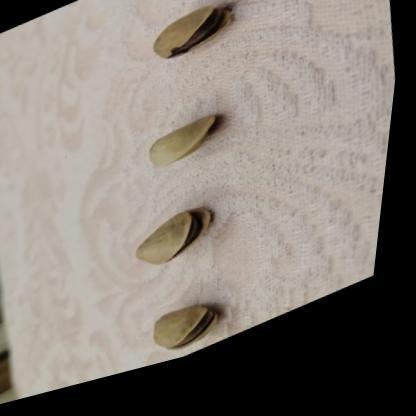pistachio: (137, 202, 217, 265), (150, 3, 241, 58), (149, 114, 227, 164), (148, 302, 228, 344)
